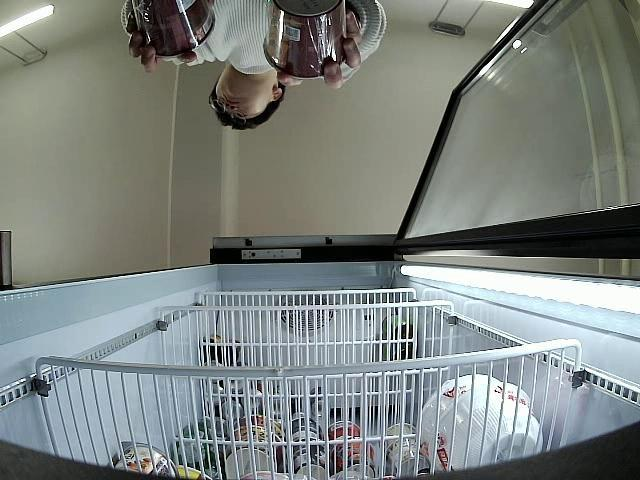06_nuguri_S: (261, 0, 353, 77), (122, 0, 216, 56)
